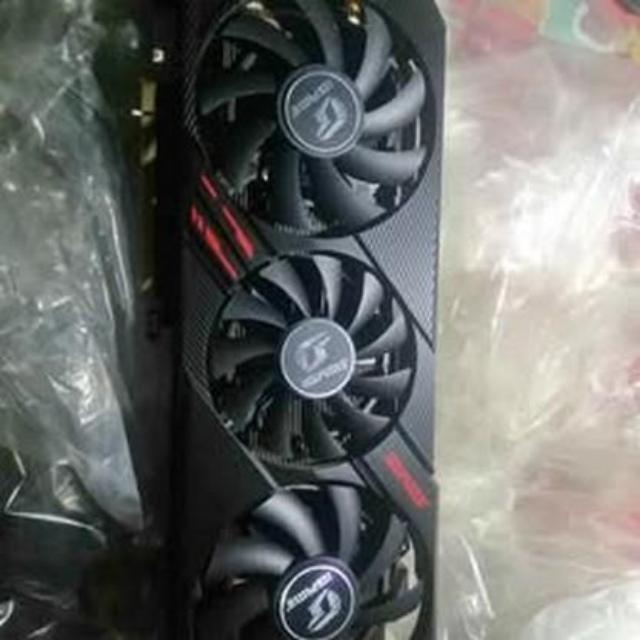GPU: (133, 0, 450, 640)
